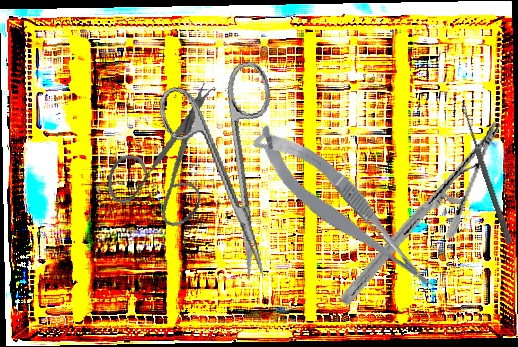Iris Scissors: (153, 58, 308, 292), (91, 78, 239, 238)
Micro Scissor: (245, 108, 443, 315)
Needle Holder: (338, 96, 504, 330)
Surgical Spoon: (459, 104, 514, 245)
